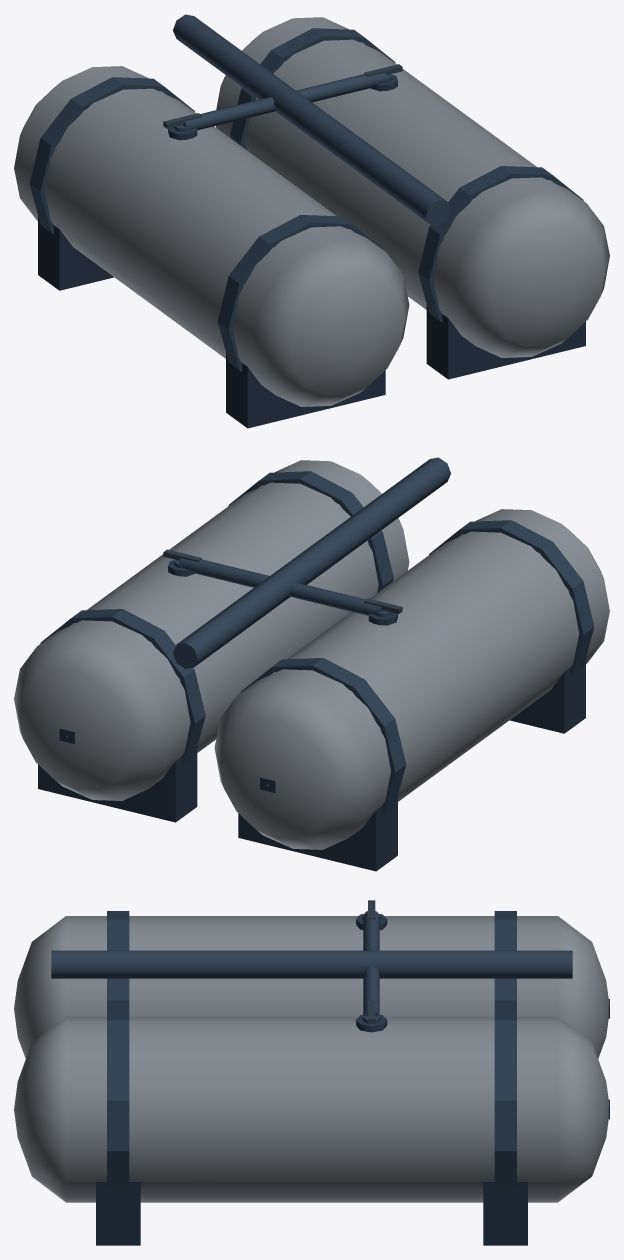
Rendered from fortress-fuel-depot.glb.
3 renders of one model, top to bottom at view 1: azimuth 30°, elevation 25°; view 2: azimuth 150°, elevation 25°; view 3: azimuth 270°, elevation 25°, orthographic. The views are drawn at different scales.
Visible parts, largest first — view 1: fuel-depot.hull, fuel-depot.dark; view 2: fuel-depot.hull, fuel-depot.dark; view 3: fuel-depot.hull, fuel-depot.dark.
Part boxes in pixels (x1,y1,x2,y2): fuel-depot.hull: (14, 17, 609, 406); fuel-depot.dark: (29, 14, 585, 428); fuel-depot.hull: (14, 460, 609, 849); fuel-depot.dark: (38, 457, 594, 871); fuel-depot.hull: (14, 916, 608, 1202); fuel-depot.dark: (51, 900, 609, 1245).
Bounding box in the file's own units: 5.84 × 3.1 × 8.
